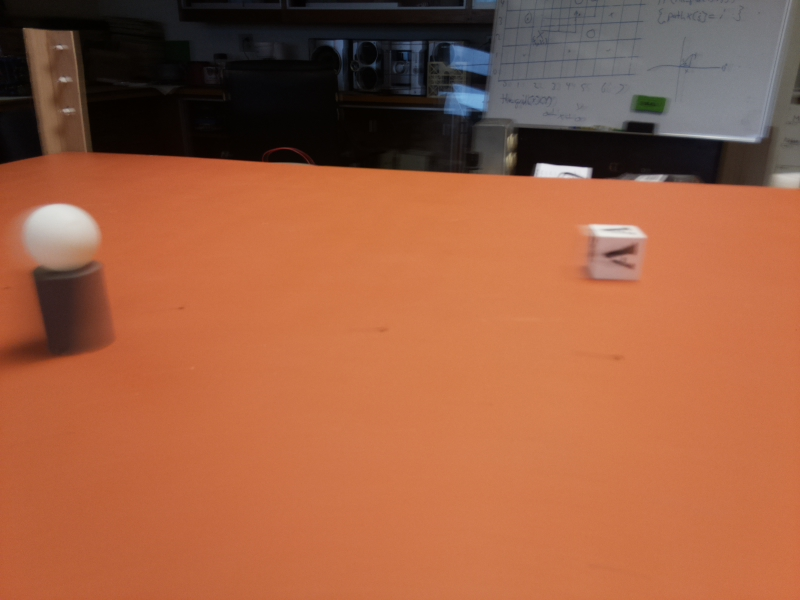blockA: (588, 223, 643, 287)
corner: (29, 27, 84, 155)
obstacle: (36, 206, 105, 353)
